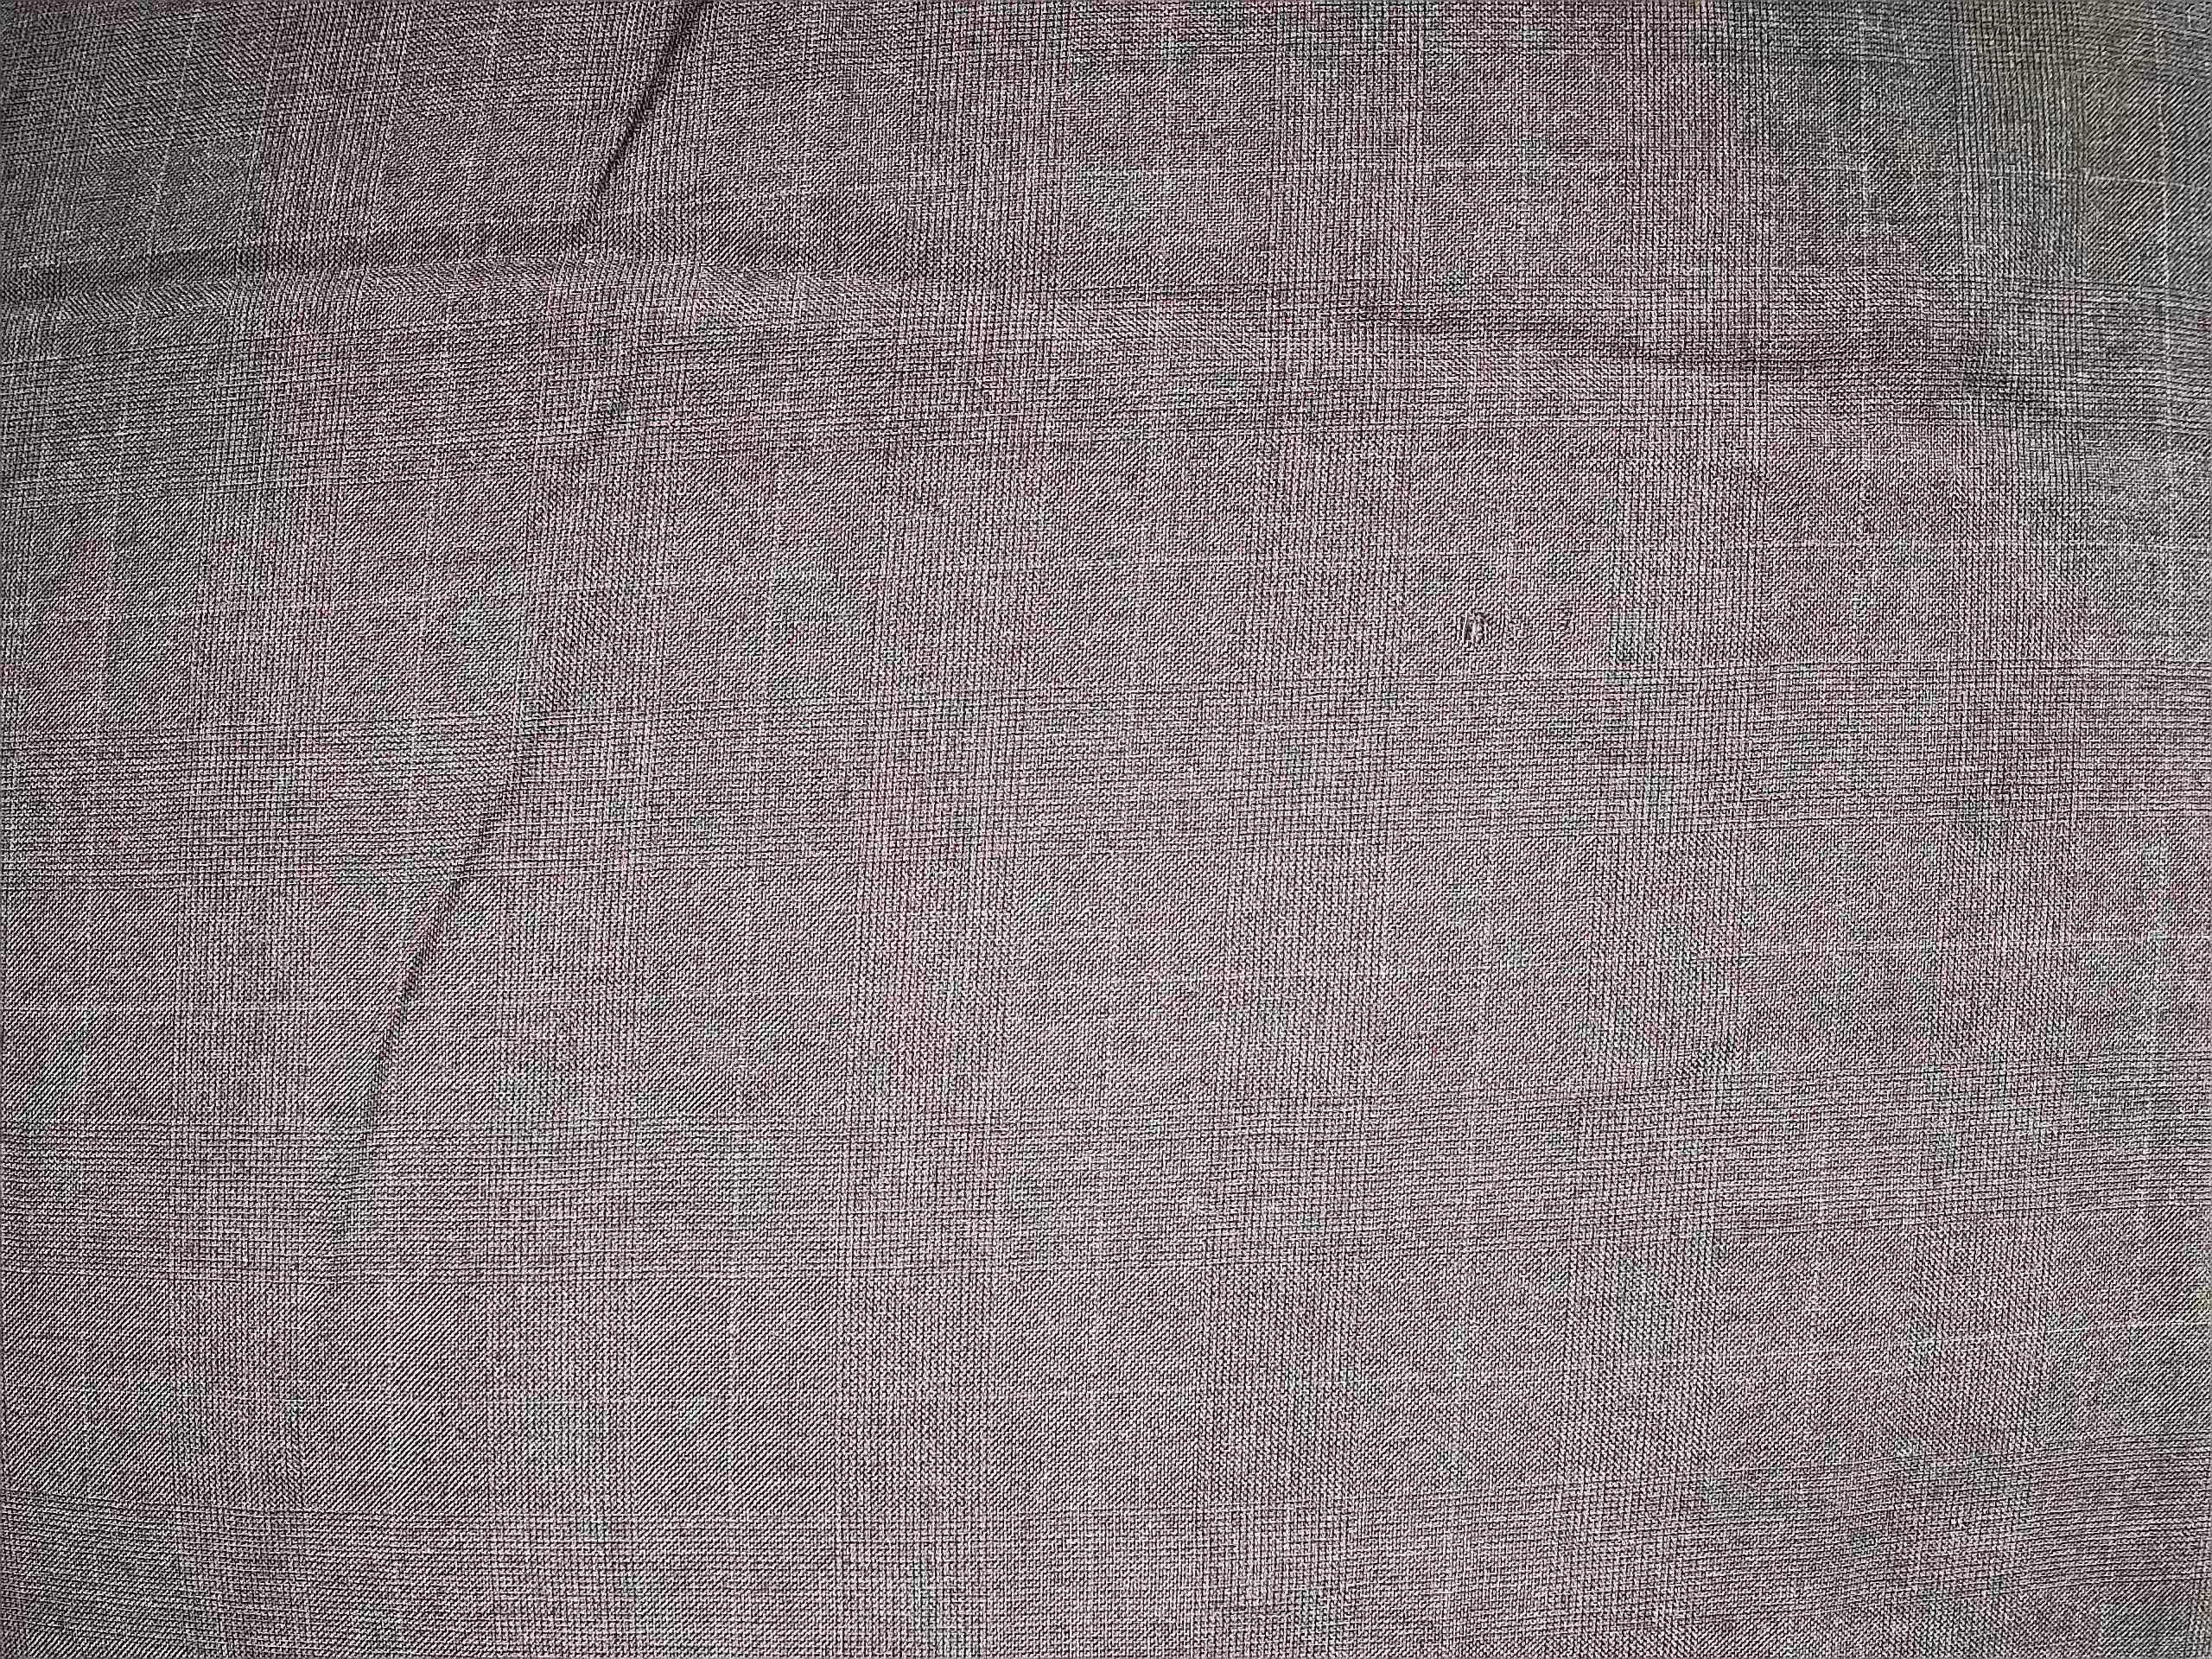puncture-hole: (1423, 580, 1521, 683)
